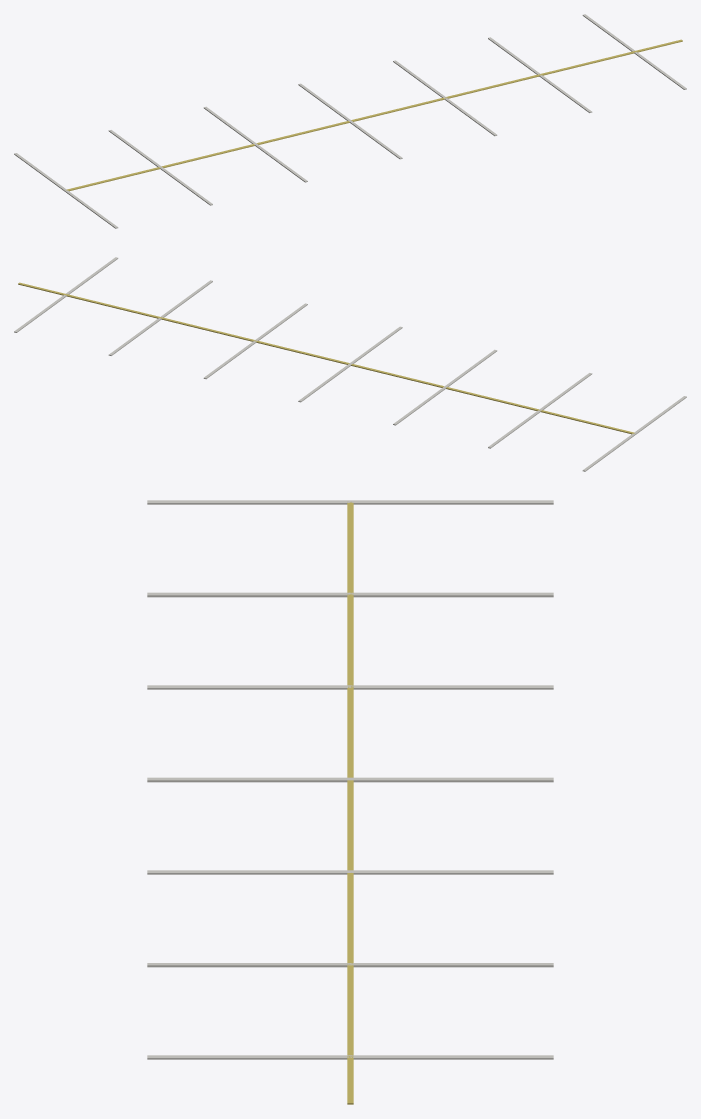
File: lot-lines.lod2.glb
The picture shows the model from 3 angles, top to bottom: view 1: azimuth 30°, elevation 25°; view 2: azimuth 150°, elevation 25°; view 3: azimuth 270°, elevation 25°; orthographic projection. The views are drawn at different scales.
Parts seen in each view (by area): view 1: lot-lines; view 2: lot-lines; view 3: lot-lines.
Boxes of the visible parts, x1,y1,x2,y2 form: lot-lines: [14, 14, 686, 228]; lot-lines: [14, 257, 686, 471]; lot-lines: [147, 500, 553, 1104].
Bounding box in the file's own units: 36.48 × 0.05 × 10.4.
